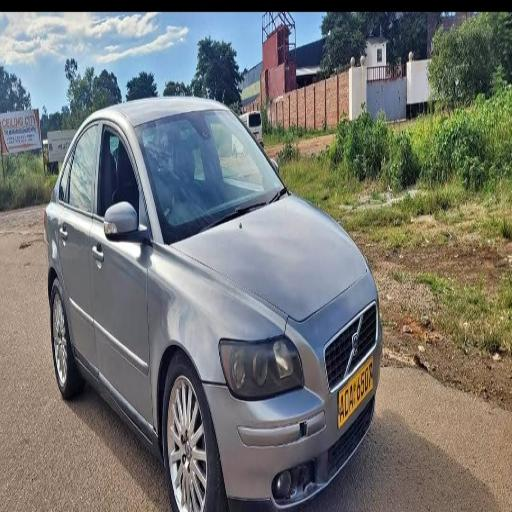number-plates: (338, 361, 376, 423)
